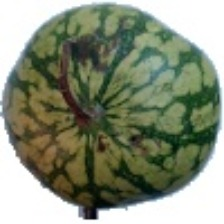watermelon: (11, 0, 188, 198)
